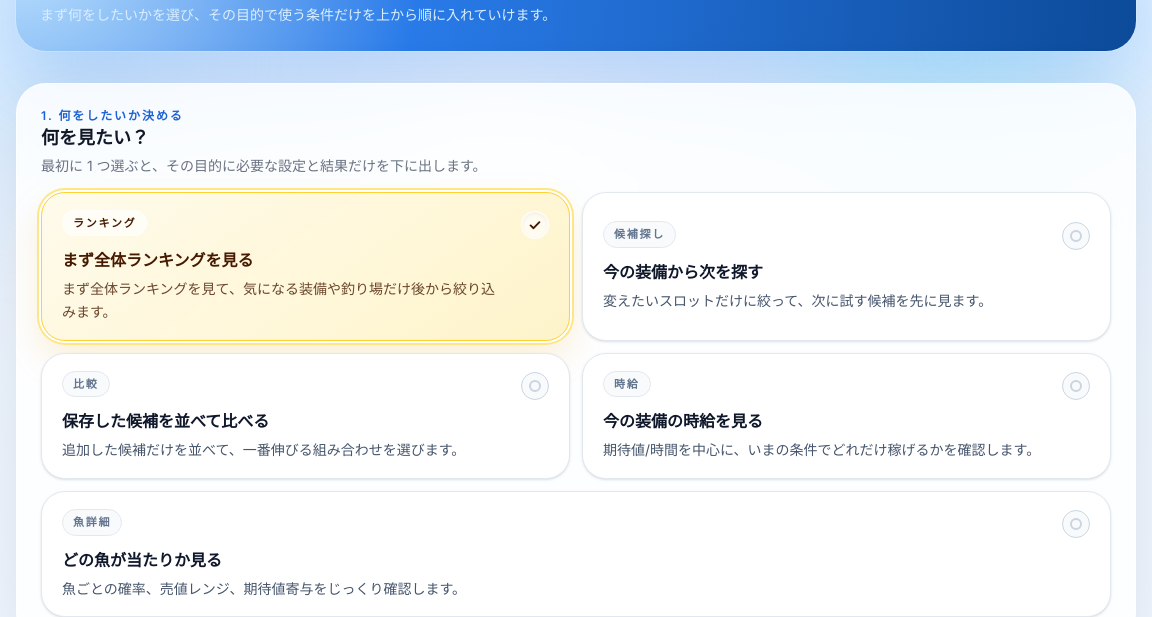
Scenario: UI quality – overflow and wrapping prevention › compare empty-state upgrade button switches to the upgrade flow
The width and height of the screenshot is (1152, 617).
Click the button "比較 保存した候補を並べて比べる 追加した候補だけを並べて、一番伸びる組み合わせを選びます。" at (86, 384), box [41, 353, 570, 479]
(page scrolled)
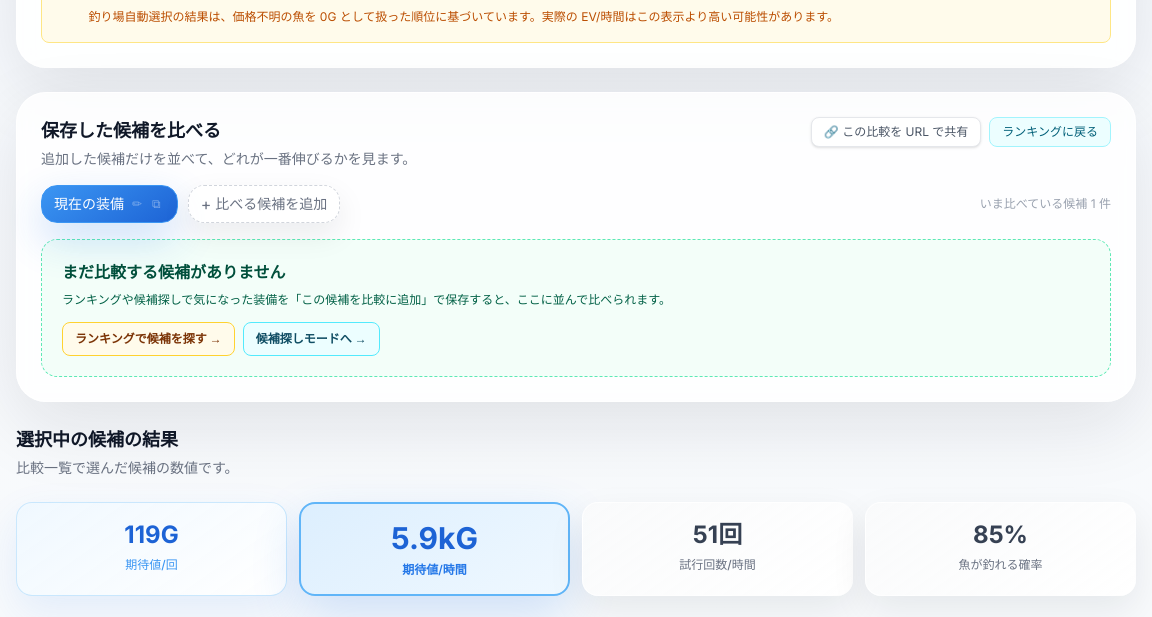
Click the button with test id "compare-empty-go-upgrade" at (311, 339), box [243, 322, 380, 356]
(page scrolled)
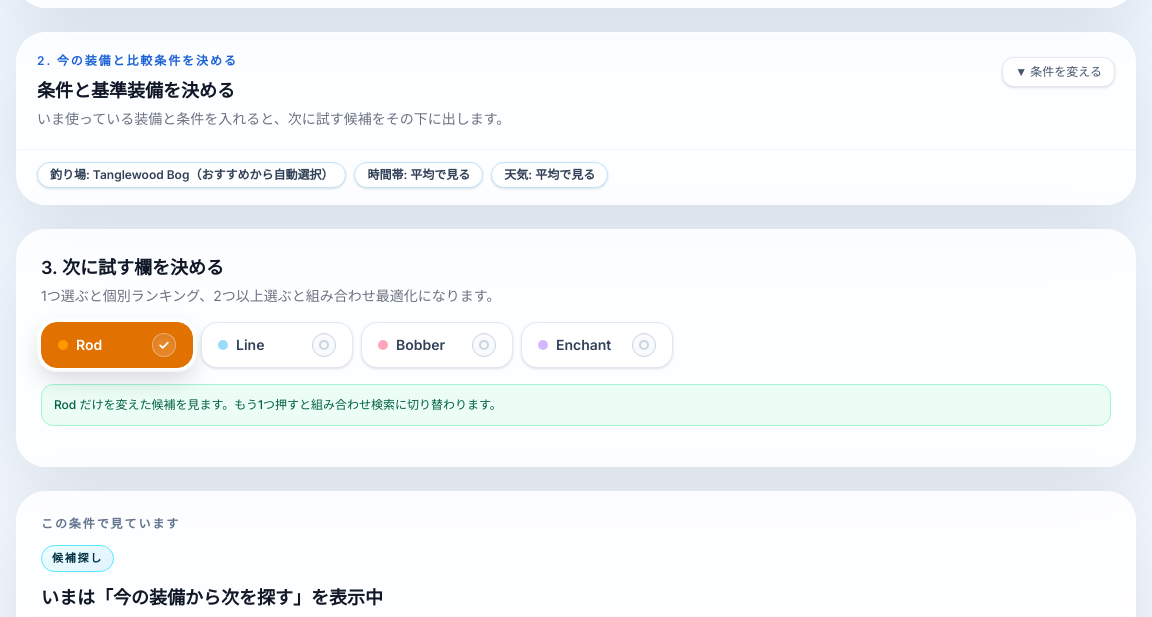
Now the heading "3. 次に試す欄を決める" is shown, box [41, 257, 224, 278]
